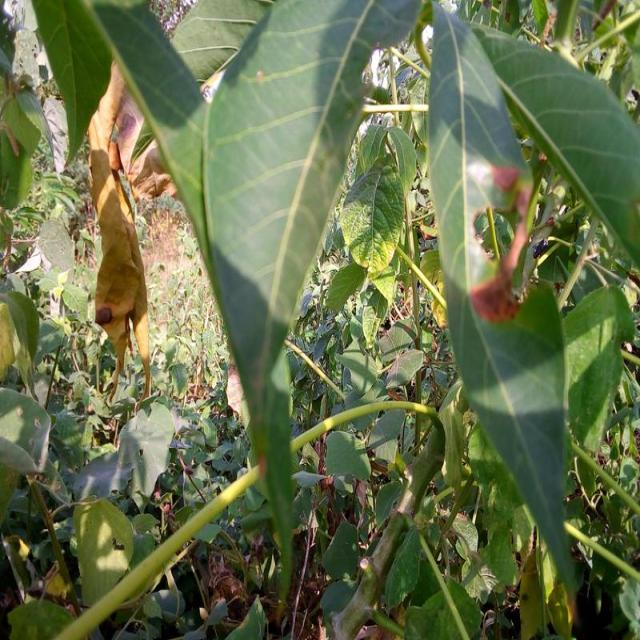cassava leaf: (198, 0, 422, 604), (426, 2, 582, 610)
